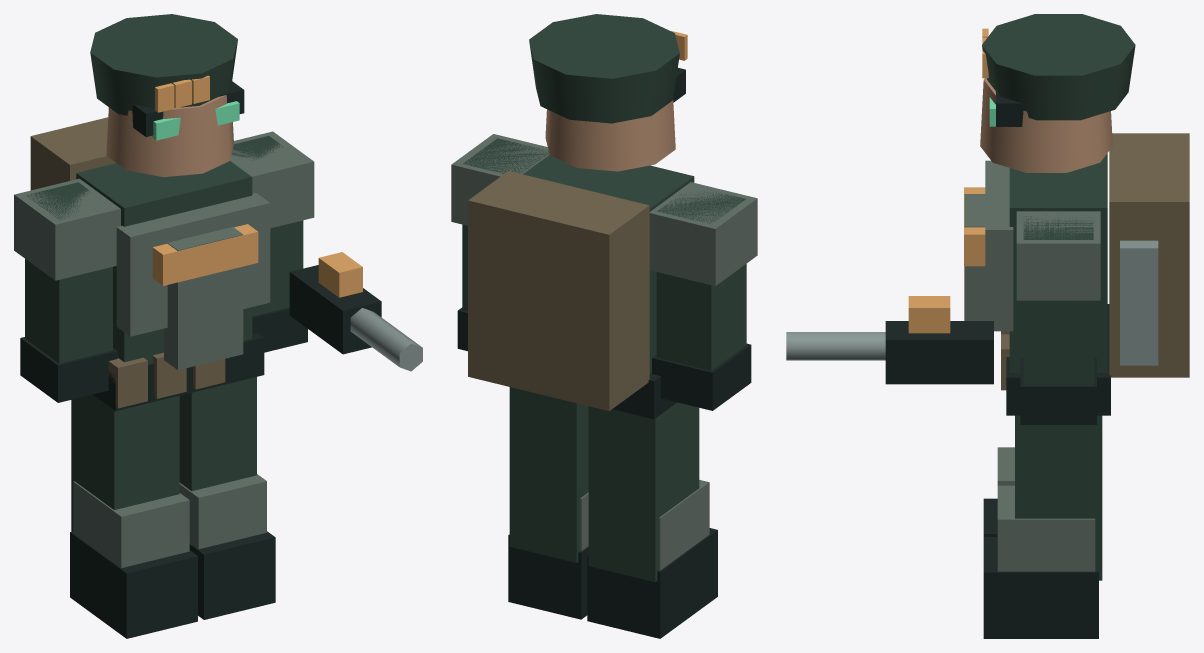
File: assault_l03.glb
3 renders of one model, left to right at view 1: azimuth 30°, elevation 25°; view 2: azimuth 150°, elevation 25°; view 3: azimuth 270°, elevation 25°, orthographic. The views are drawn at different scales.
Visible parts, largest first — view 1: trouser (×2), boot (×2), shoulder_plate (×2), sleeve (×2), knee_plate (×2), helmet, vest, body, front_plate, face, glove (×2), carbine_body (+10 smaller); view 2: field_pack, trouser (×2), helmet, boot (×2), shoulder_plate (×2), sleeve (×2), face, body, glove (×2), knee_plate (×2), belt; view 3: field_pack, helmet, boot (×2), trouser, sleeve, body, shoulder_plate, knee_plate (×2), face, carbine_body, spare_magazine, vest (+7 smaller).
Part boxes in pixels (left/top/right/bottom): trouser (×2): left=71, top=377, right=256, bottom=531; boot (×2): left=70, top=531, right=275, bottom=638; shoulder_plate (×2): left=14, top=131, right=314, bottom=280; sleeve (×2): left=25, top=136, right=303, bottom=363; knee_plate (×2): left=73, top=474, right=266, bottom=567; helmet: left=90, top=14, right=237, bottom=115; vest: left=116, top=193, right=270, bottom=336; body: left=76, top=161, right=252, bottom=364; front_plate: left=164, top=227, right=243, bottom=369; face: left=106, top=95, right=233, bottom=177; glove (×2): left=20, top=307, right=307, bottom=402; carbine_body: left=289, top=265, right=381, bottom=354; field_pack: left=468, top=171, right=649, bottom=411; trouser (×2): left=509, top=387, right=699, bottom=582; helmet: left=529, top=14, right=679, bottom=123; boot (×2): left=508, top=528, right=717, bottom=638; shoulder_plate (×2): left=451, top=134, right=757, bottom=286; sleeve (×2): left=462, top=138, right=746, bottom=370; face: left=545, top=100, right=675, bottom=171; body: left=523, top=155, right=694, bottom=373; glove (×2): left=457, top=307, right=751, bottom=410; knee_plate (×2): left=580, top=480, right=709, bottom=570; belt: left=612, top=373, right=676, bottom=419; field_pack: left=1109, top=133, right=1189, bottom=377; helmet: left=982, top=14, right=1135, bottom=120; boot (×2): left=983, top=498, right=1098, bottom=638; trouser: left=1015, top=415, right=1102, bottom=580; sleeve: left=1023, top=215, right=1093, bottom=385; body: left=1009, top=153, right=1107, bottom=372; shoulder_plate: left=1016, top=211, right=1100, bottom=300; knee_plate (×2): left=997, top=447, right=1095, bottom=571; face: left=980, top=78, right=1112, bottom=172; carbine_body: left=885, top=321, right=993, bottom=384; spare_magazine: left=1120, top=240, right=1158, bottom=365; vest: left=985, top=160, right=1013, bottom=331.
Size of the model in its own units: 0.88 by 1.76 by 1.16.
